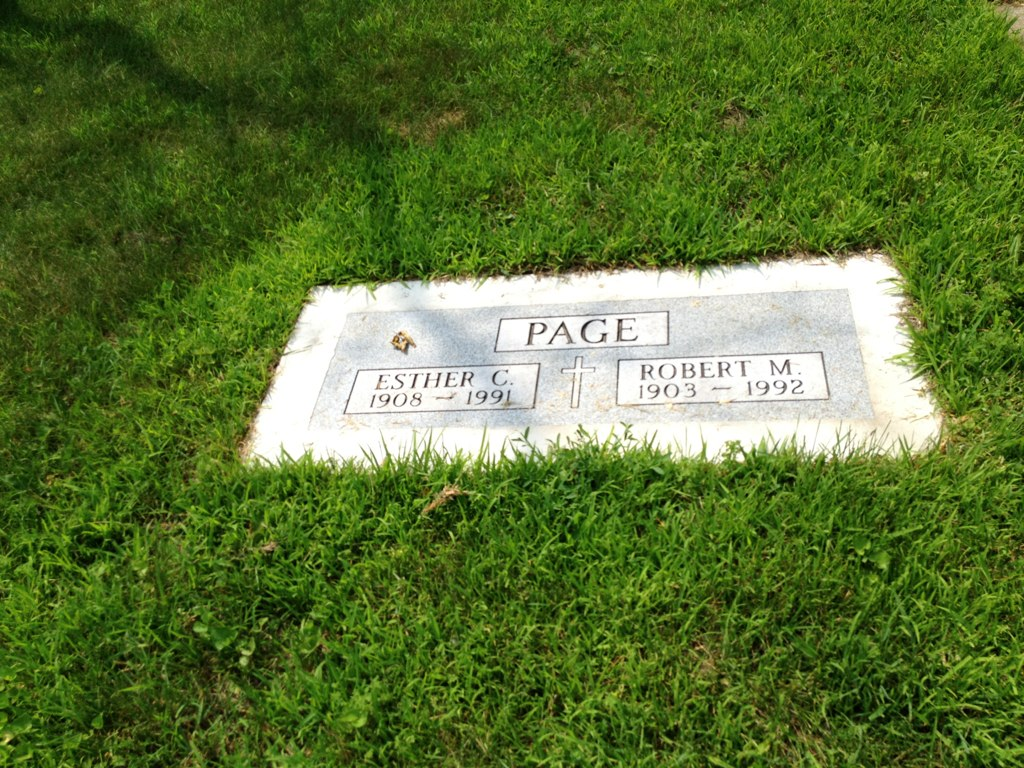flat: (242, 244, 952, 467)
